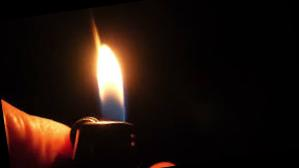Fire: (84, 20, 141, 131)
